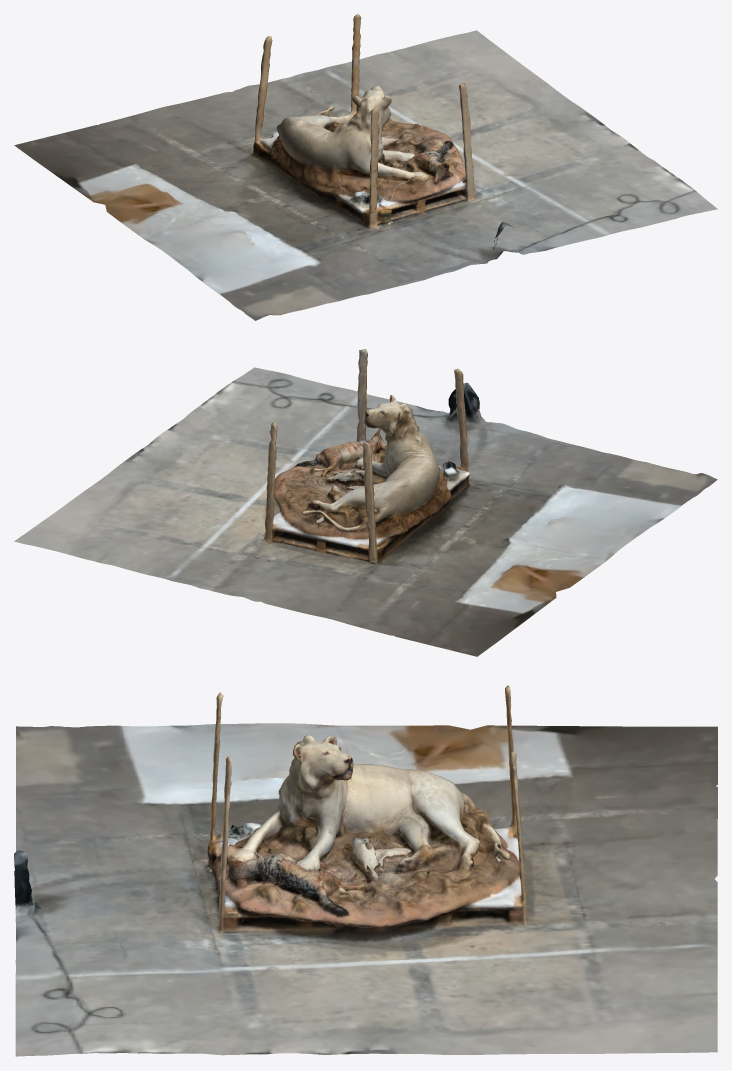
The picture shows the model from 3 angles, top to bottom: view 1: azimuth 30°, elevation 25°; view 2: azimuth 150°, elevation 25°; view 3: azimuth 270°, elevation 25°; orthographic projection. The views are drawn at different scales.
Parts seen in each view (by area): view 1: Node; view 2: Node; view 3: Node.
Part boxes in pixels (x1=…): Node: x1=14, y1=14, x2=717, y2=320; Node: x1=14, y1=349, x2=717, y2=656; Node: x1=14, y1=685, x2=717, y2=1056.
Bounding box in the file's own units: 2.58 × 0.6306 × 2.33.
Materials: 1 (1 with a texture image).
